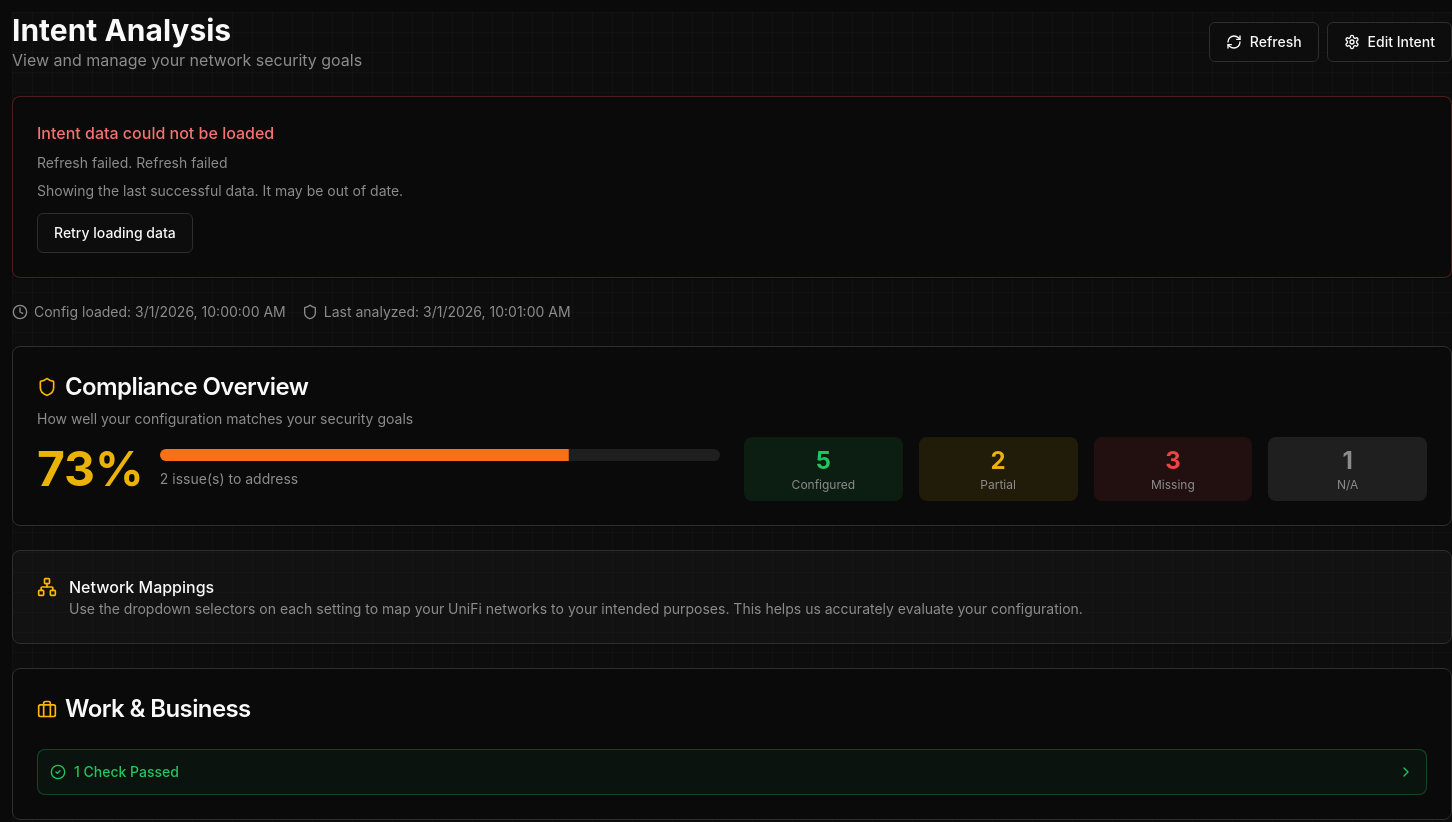
Test: IntentDashboardPage › retains the last successful profile and analysis with a warning when refresh fails
The image size is (1452, 822).
Expected: the message shows "Showing the last successful data", [37,182,403,199]
Expected: the text "73%" is shown, [37,445,144,493]
Click the button "Retry loading data": (115, 233) [37,213,193,253]
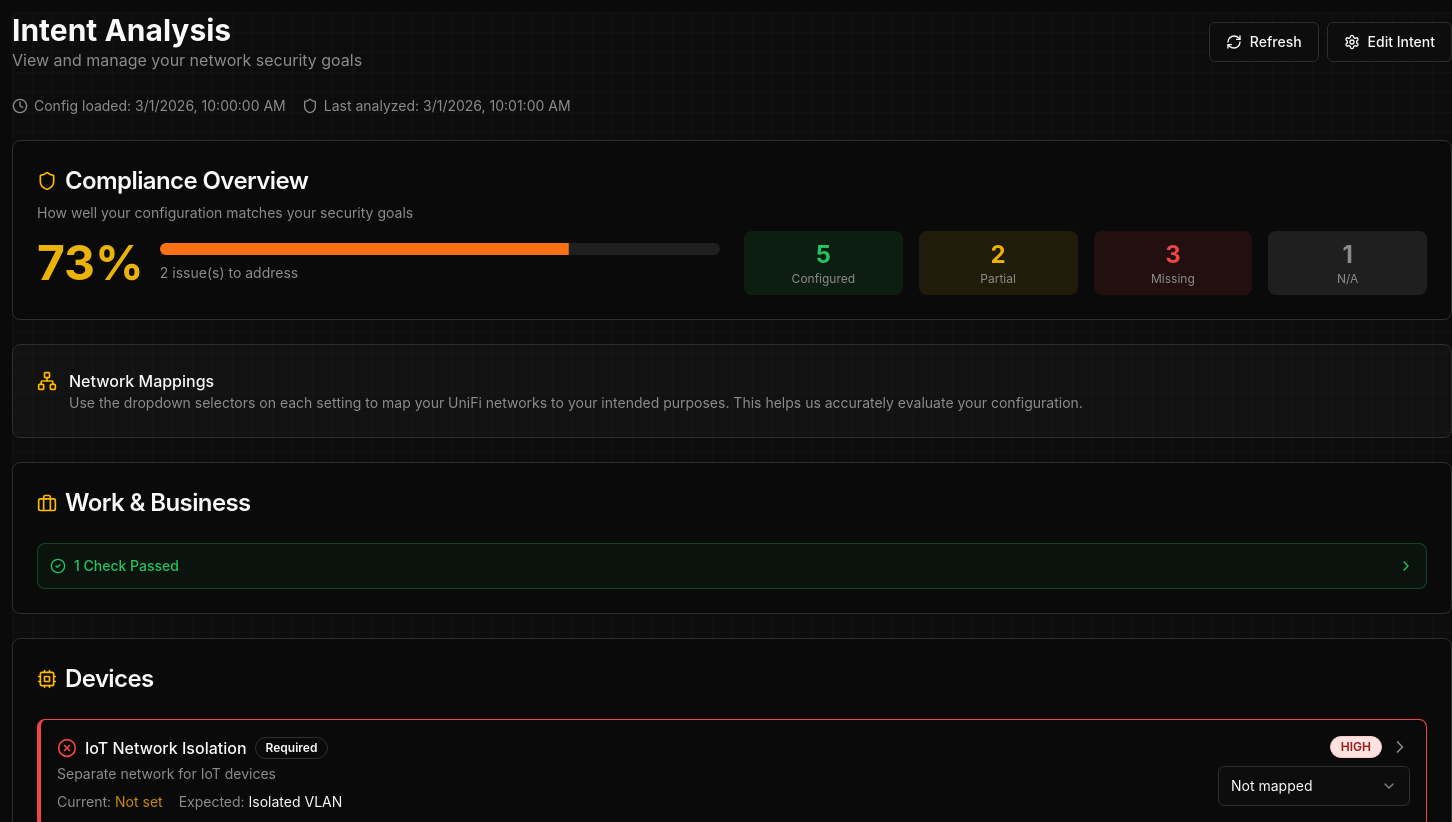
Result: the message "Intent data could not be loaded Refresh failed. Refresh failed Showing the last" is gone
